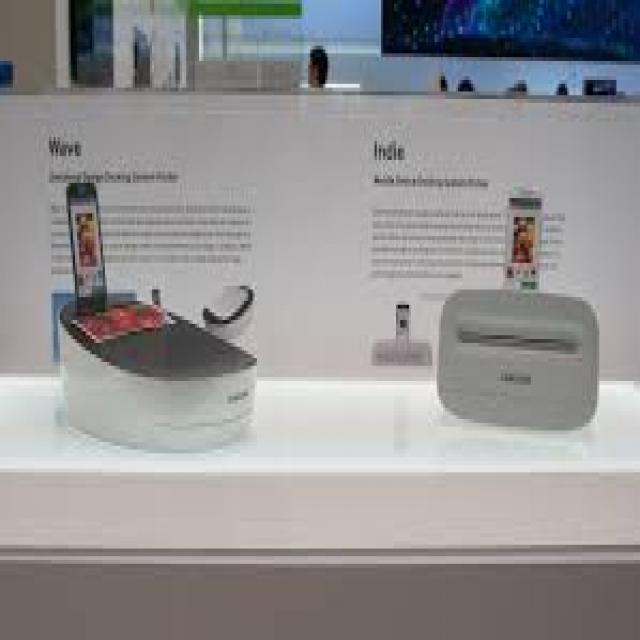printer: (56, 181, 257, 459), (437, 196, 602, 446)
